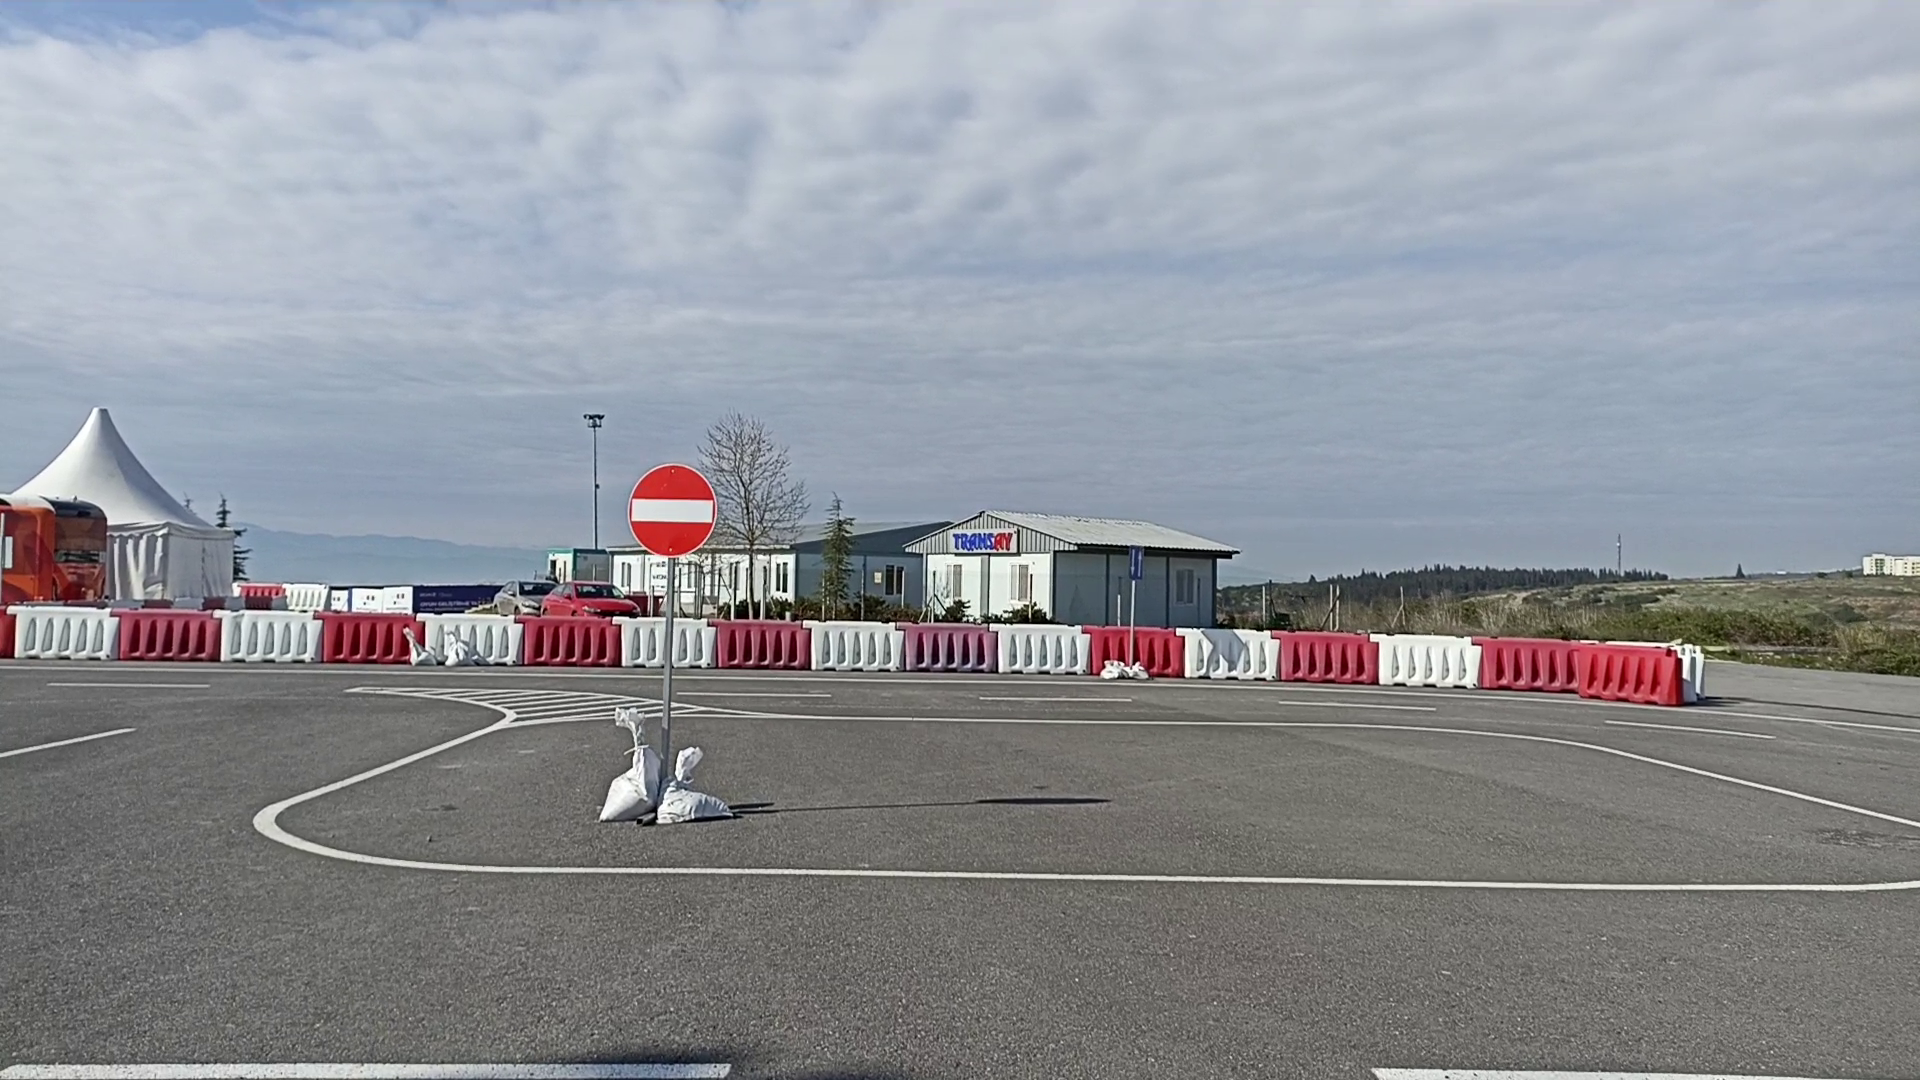noentryway: (625, 460, 723, 560)
